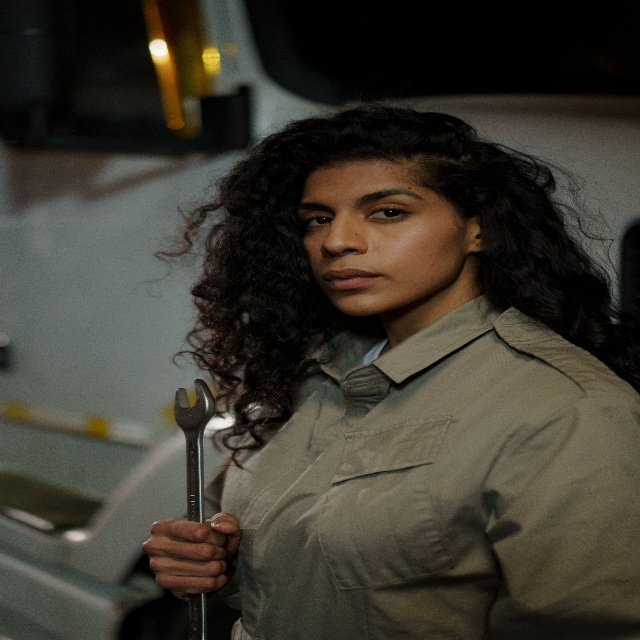Sin_guantes: (141, 512, 242, 597)
